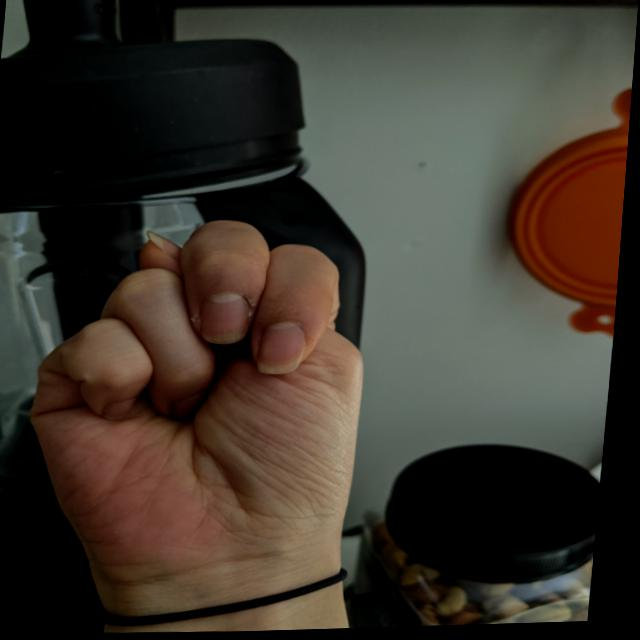N: (16, 211, 389, 601)
